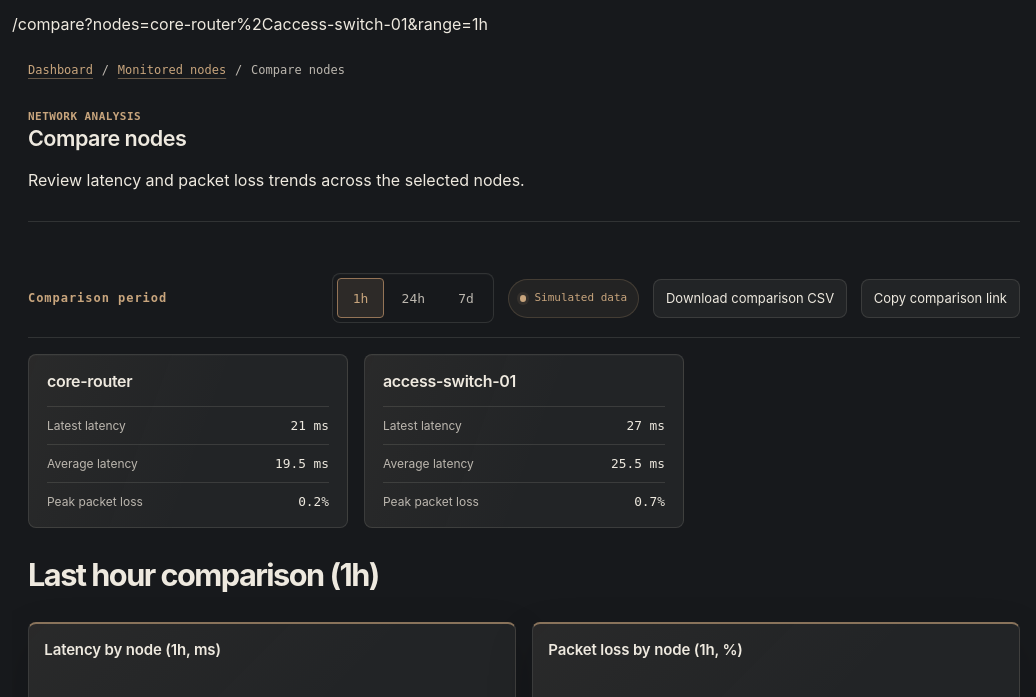
Test case: NetworkNodeComparisonPage › updates the URL when the selected period changes
Click the button "24h" at [413, 298], box [386,278,440,318]
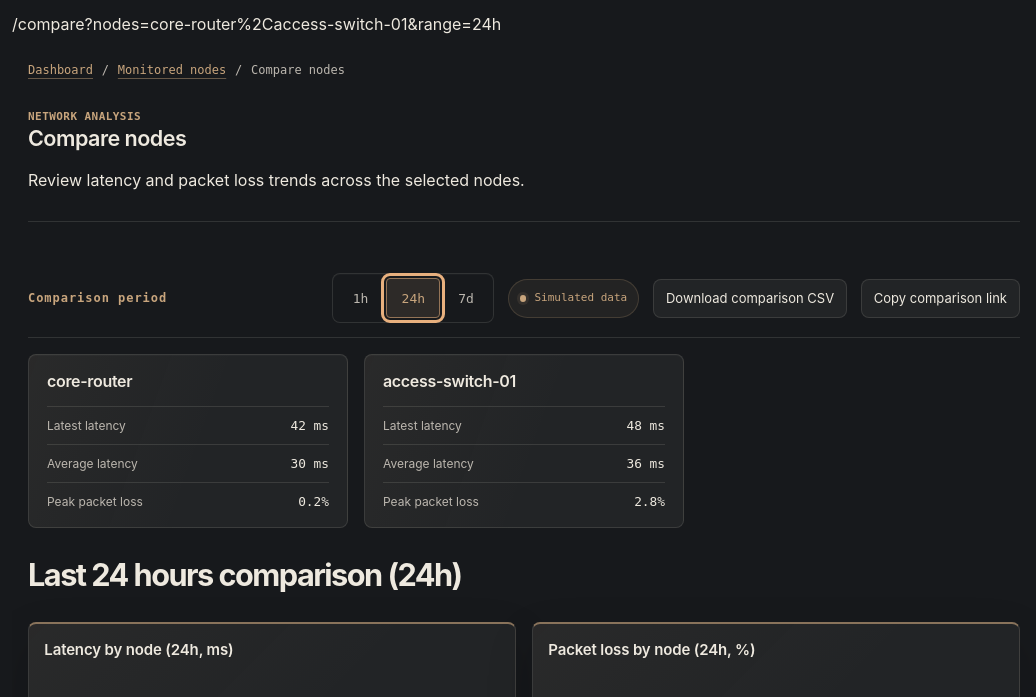
Expected: the text named "Current comparison URL" shows "range=24h", [84,14,501,34]
